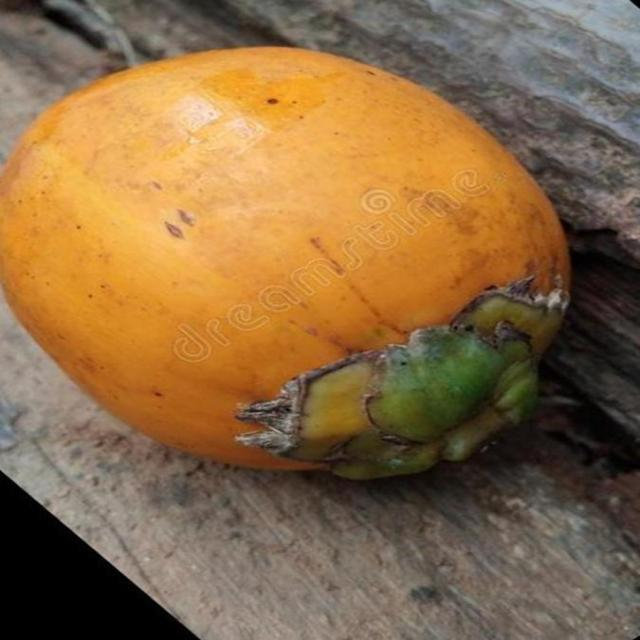good: (0, 46, 573, 482)
